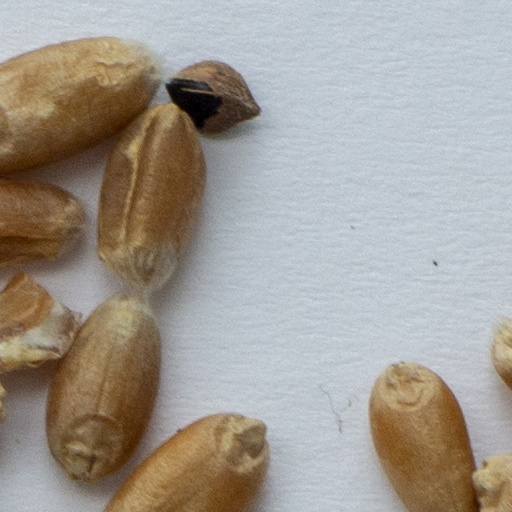Fallopia-Convolvulus-poly: (167, 61, 257, 134)
Wheat-grain-damaged-poly: (0, 274, 78, 369)
